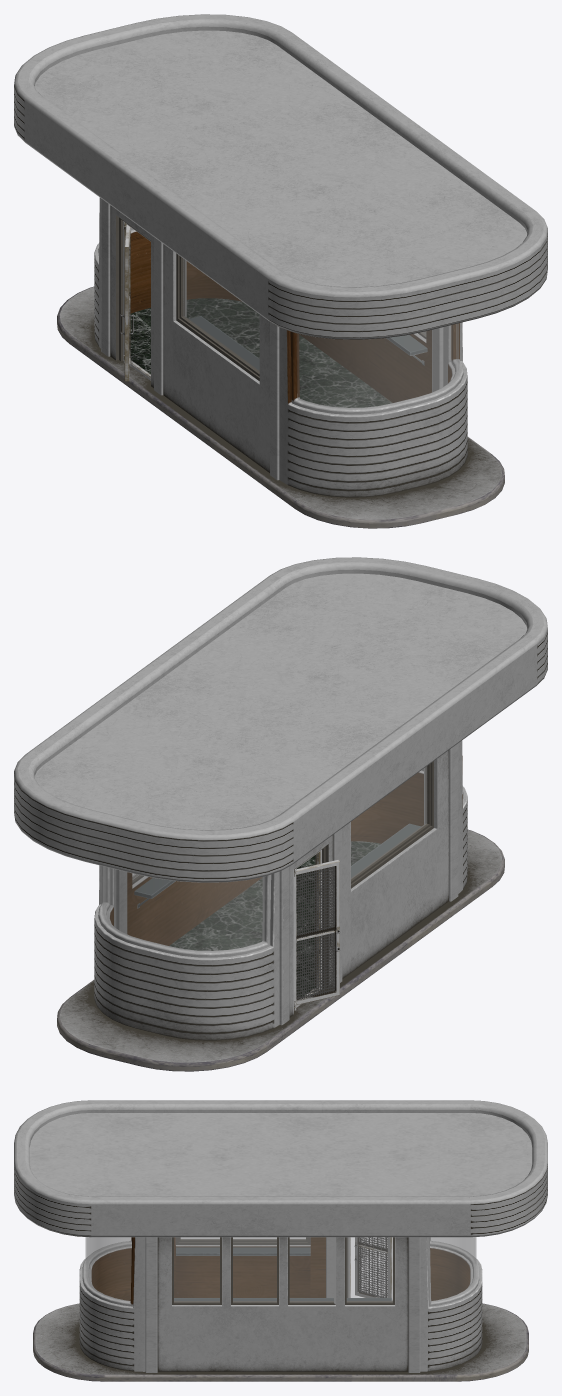
Rendered from room1.glb.
3 renders of one model, top to bottom at view 1: azimuth 30°, elevation 25°; view 2: azimuth 150°, elevation 25°; view 3: azimuth 270°, elevation 25°, orthographic. The views are drawn at different scales.
Visible parts, largest first — view 1: Base, _1_3__0_Door_0; view 2: Base, _1_3__0_Door_0; view 3: Base, _1_3__0_Door_0.
Part boxes in pixels (x1=…): Base: x1=14, y1=14, x2=547, y2=528; _1_3__0_Door_0: x1=120, y1=224, x2=133, y2=381; Base: x1=14, y1=557, x2=547, y2=1071; _1_3__0_Door_0: x1=294, y1=860, x2=340, y2=1007; Base: x1=14, y1=1100, x2=547, y2=1381; _1_3__0_Door_0: x1=354, y1=1237, x2=392, y2=1300.
Size of the model in its own units: 4.64 by 4.1 by 10.24.
4 materials, 3 textured.
